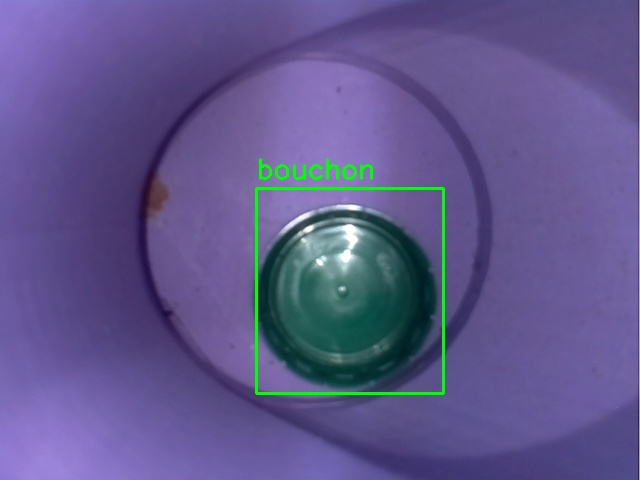bouchon: (256, 188, 443, 393)
